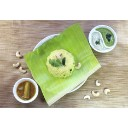venpongal: (47, 49, 75, 74)
